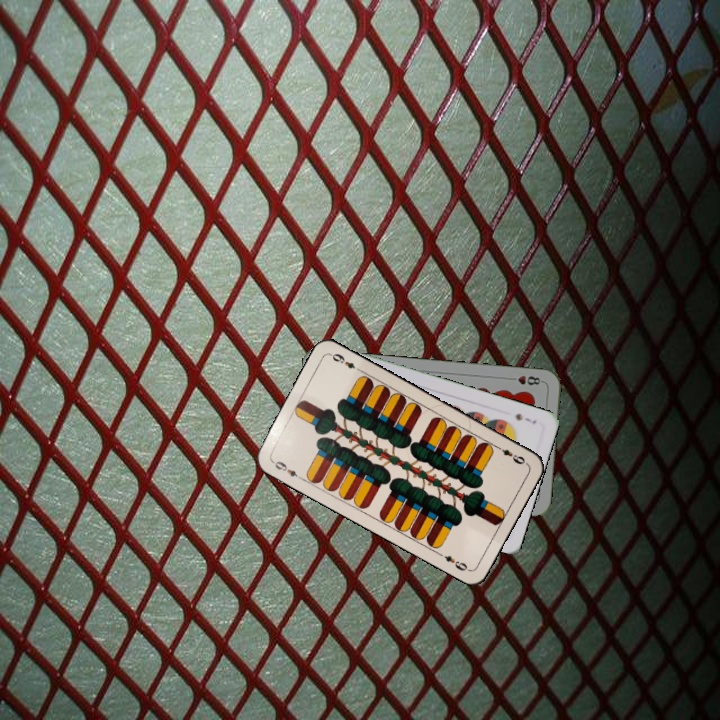E9: (268, 457, 305, 483), (492, 442, 528, 467)
H8: (505, 372, 545, 388)
S7: (511, 409, 539, 426)
